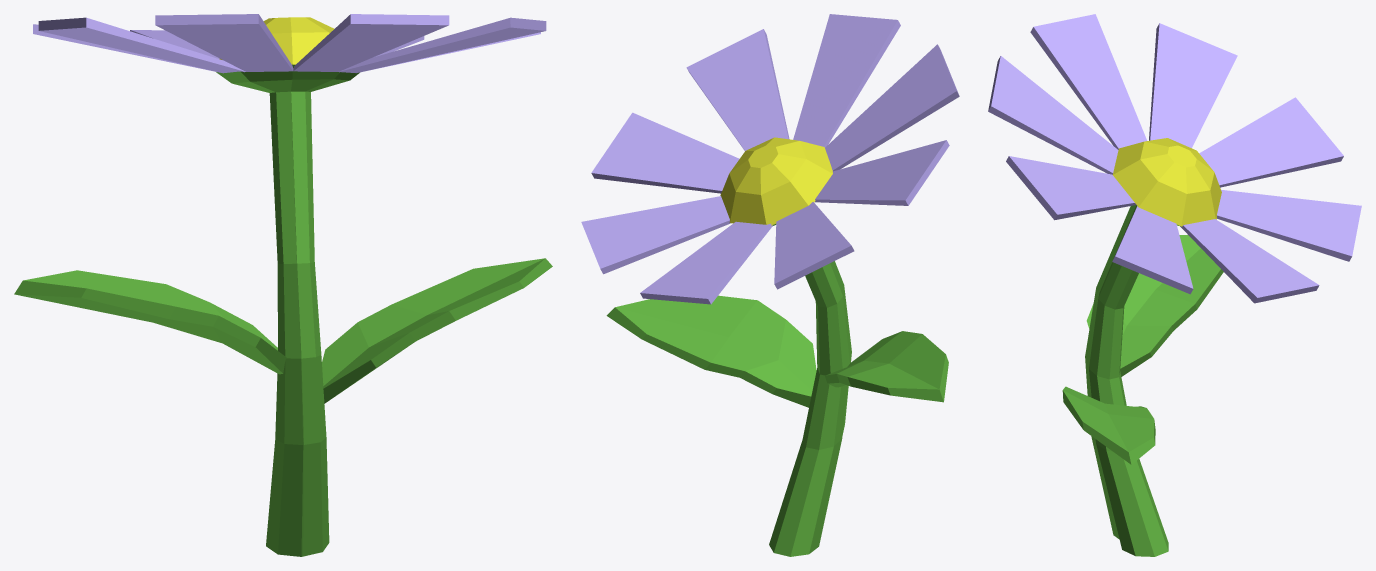
Rendered from cicek1.fbx.
3 views of the same model, side by side, from view 1: azimuth 30°, elevation 25°; view 2: azimuth 150°, elevation 25°; view 3: azimuth 270°, elevation 25° (orthographic). The views are drawn at different scales.
Visible parts, largest first — view 1: cicek1kok, cicek1; view 2: cicek1, cicek1kok; view 3: cicek1, cicek1kok.
Boxes of the visible parts, x1=… form: cicek1kok: x1=14, y1=17, x2=552, y2=556; cicek1: x1=33, y1=14, x2=546, y2=73; cicek1: x1=581, y1=14, x2=959, y2=304; cicek1kok: x1=606, y1=137, x2=948, y2=556; cicek1: x1=988, y1=14, x2=1361, y2=303; cicek1kok: x1=1062, y1=138, x2=1223, y2=556.
Bounding box in the file's own units: 95.28 × 115 × 81.5.
